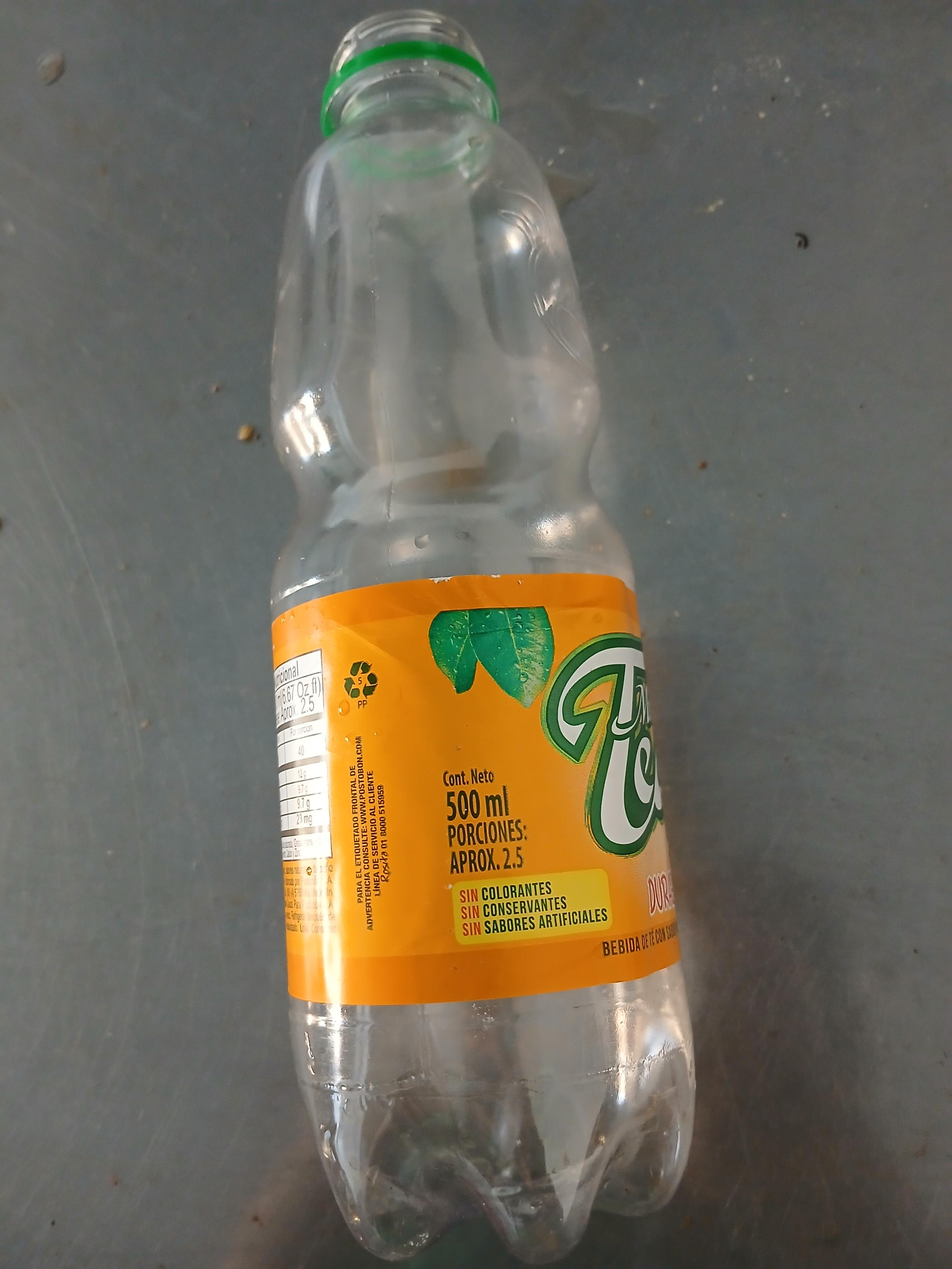Plastico: (271, 11, 694, 1264)
